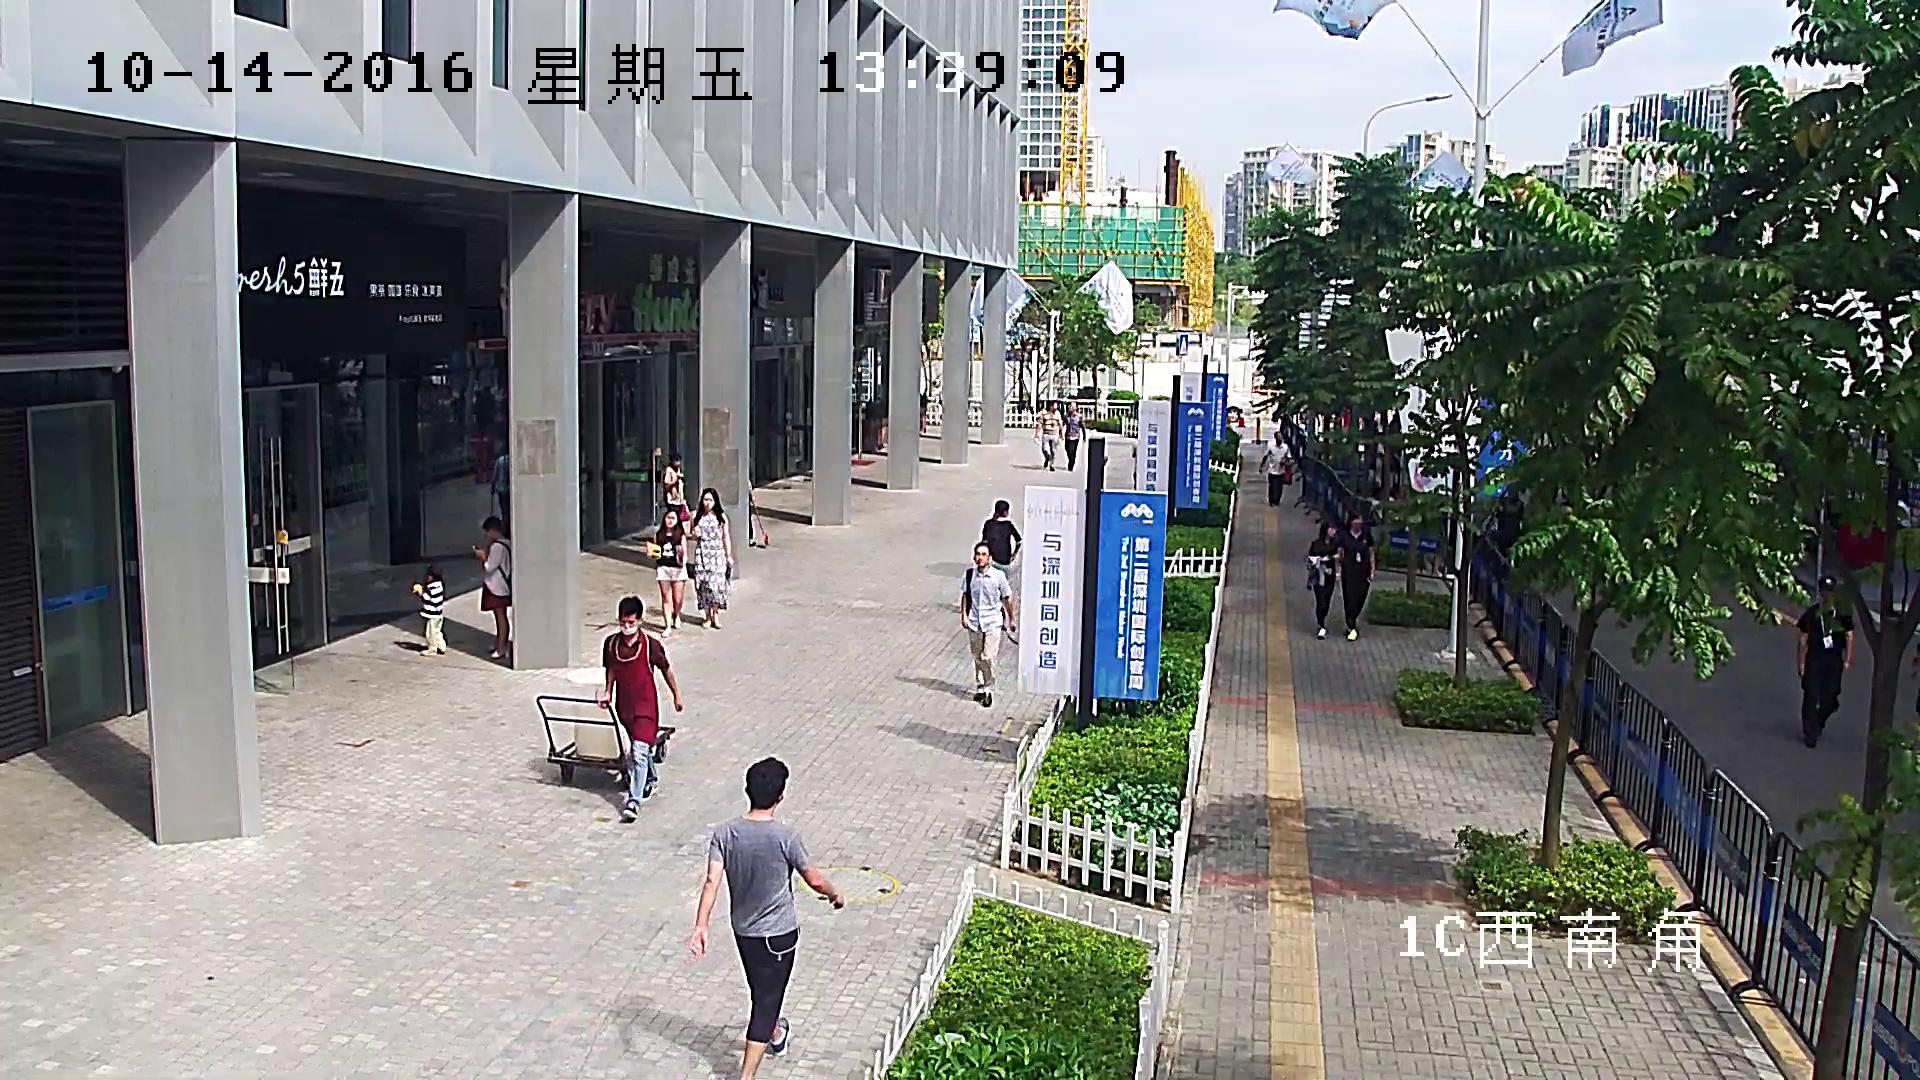person: (688, 755, 845, 1080), (535, 595, 682, 821), (596, 596, 683, 821), (1795, 575, 1853, 749), (959, 542, 1016, 707), (691, 487, 734, 629), (470, 517, 510, 660), (645, 510, 689, 639), (981, 500, 1023, 629), (1337, 515, 1375, 640), (1304, 520, 1341, 640), (410, 567, 448, 656), (1258, 431, 1295, 508), (1033, 400, 1064, 471), (490, 442, 510, 540), (1062, 402, 1085, 471), (663, 454, 685, 493)
